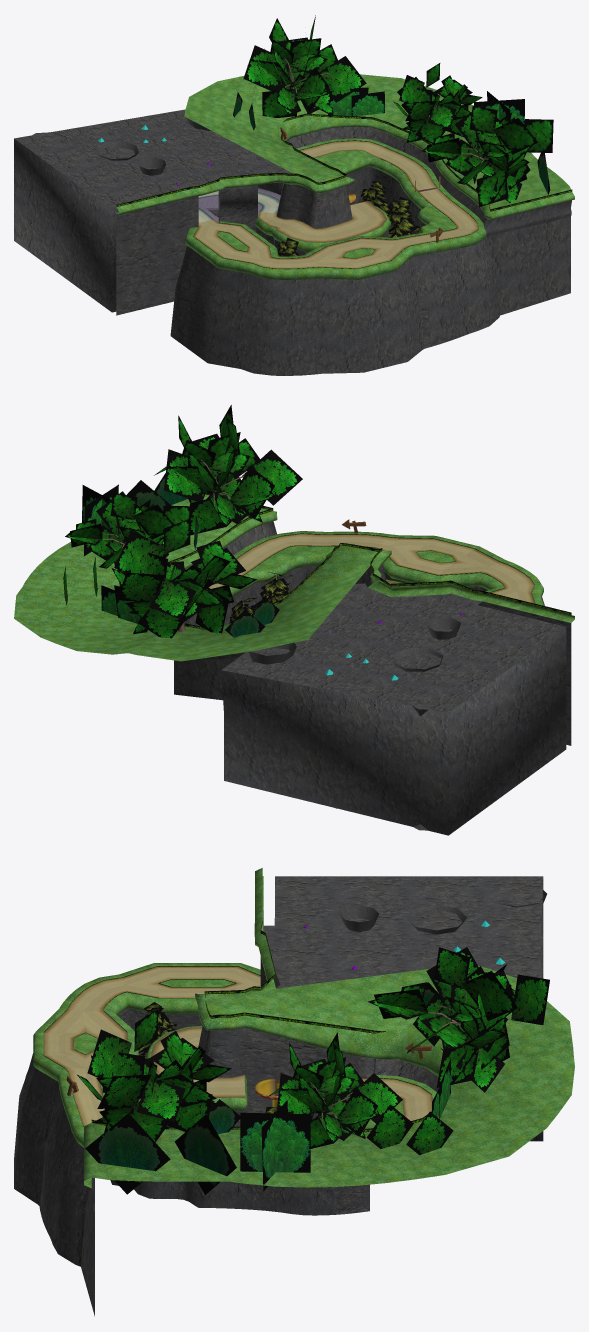
3 renders of one model, top to bottom at view 1: azimuth 30°, elevation 25°; view 2: azimuth 150°, elevation 25°; view 3: azimuth 270°, elevation 25°, orthographic. The views are drawn at different scales.
Visible parts, largest first — view 1: polygon0.032, polygon0.033, polygon0.034, polygon0.027, polygon0.036, polygon0.035, polygon0.037, polygon0.030, polygon0.039, polygon0.031; view 2: polygon0.032, polygon0.033, polygon0.034, polygon0.027, polygon0.036, polygon0.039, polygon0.035, polygon0.037; view 3: polygon0.032, polygon0.033, polygon0.034, polygon0.027, polygon0.039, polygon0.035, polygon0.041, polygon0.036, polygon0.037.
Boxes of the visible parts, left/top/right/bottom form: polygon0.032: left=14, top=109, right=571, bottom=375; polygon0.033: left=116, top=74, right=574, bottom=279; polygon0.034: left=243, top=15, right=553, bottom=207; polygon0.027: left=193, top=141, right=478, bottom=268; polygon0.036: left=116, top=113, right=572, bottom=269; polygon0.035: left=328, top=87, right=524, bottom=124; polygon0.037: left=277, top=181, right=420, bottom=256; polygon0.030: left=198, top=191, right=279, bottom=222; polygon0.039: left=233, top=92, right=550, bottom=194; polygon0.031: left=198, top=188, right=280, bottom=222; polygon0.032: left=174, top=521, right=571, bottom=835; polygon0.033: left=14, top=494, right=574, bottom=661; polygon0.034: left=65, top=405, right=302, bottom=638; polygon0.027: left=209, top=534, right=534, bottom=603; polygon0.036: left=168, top=493, right=571, bottom=629; polygon0.039: left=126, top=473, right=279, bottom=637; polygon0.035: left=82, top=484, right=140, bottom=623; polygon0.037: left=229, top=572, right=292, bottom=623; polygon0.032: left=14, top=876, right=546, bottom=1316; polygon0.033: left=33, top=868, right=574, bottom=1188; polygon0.034: left=77, top=947, right=549, bottom=1148; polygon0.027: left=43, top=966, right=432, bottom=1126; polygon0.039: left=85, top=982, right=440, bottom=1194; polygon0.035: left=240, top=1058, right=450, bottom=1191; polygon0.041: left=366, top=1104, right=453, bottom=1155; polygon0.036: left=43, top=921, right=443, bottom=1132; polygon0.037: left=138, top=1002, right=277, bottom=1182.
Size of what is drawn, in the model's own units: 74929 by 35297 by 64689.
Materials: 17 (17 with a texture image).
